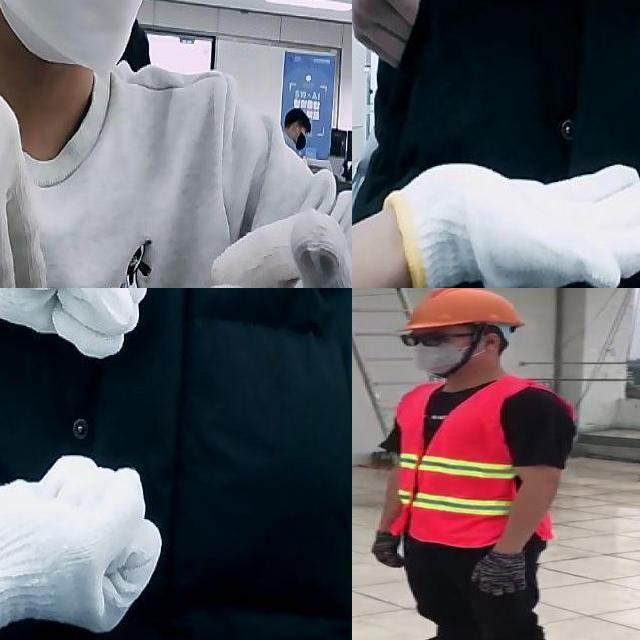GLASS: (395, 327, 476, 346)
GLOVE: (389, 160, 640, 288), (0, 453, 163, 640), (191, 210, 352, 288), (0, 288, 156, 359), (469, 546, 527, 594), (371, 525, 408, 571)
HELMET: (394, 288, 529, 333)
VEST: (386, 379, 575, 546)
